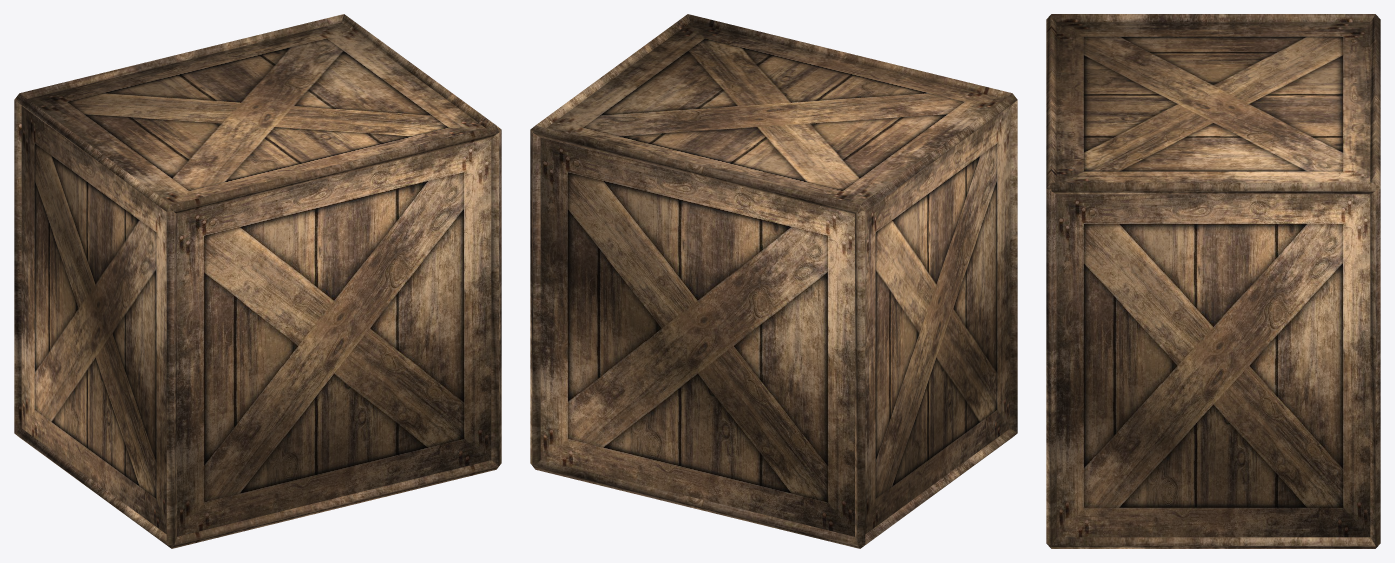
Rendered from mdl_crate.obj.
3 views of the same model, side by side, from view 1: azimuth 30°, elevation 25°; view 2: azimuth 150°, elevation 25°; view 3: azimuth 270°, elevation 25° (orthographic). The views are drawn at different scales.
Visible parts, largest first — view 1: Box001, Box002; view 2: Box001, Box002; view 3: Box001, Box002.
Part boxes in pixels (x1,y1,x2,y2): Box001: (21, 22, 491, 536); Box002: (14, 14, 501, 548); Box001: (540, 22, 1010, 536); Box002: (530, 14, 1017, 548); Box001: (1056, 22, 1370, 537); Box002: (1046, 14, 1380, 548).
Size of the model in its own units: 0.6469 by 0.6347 by 0.5255.
